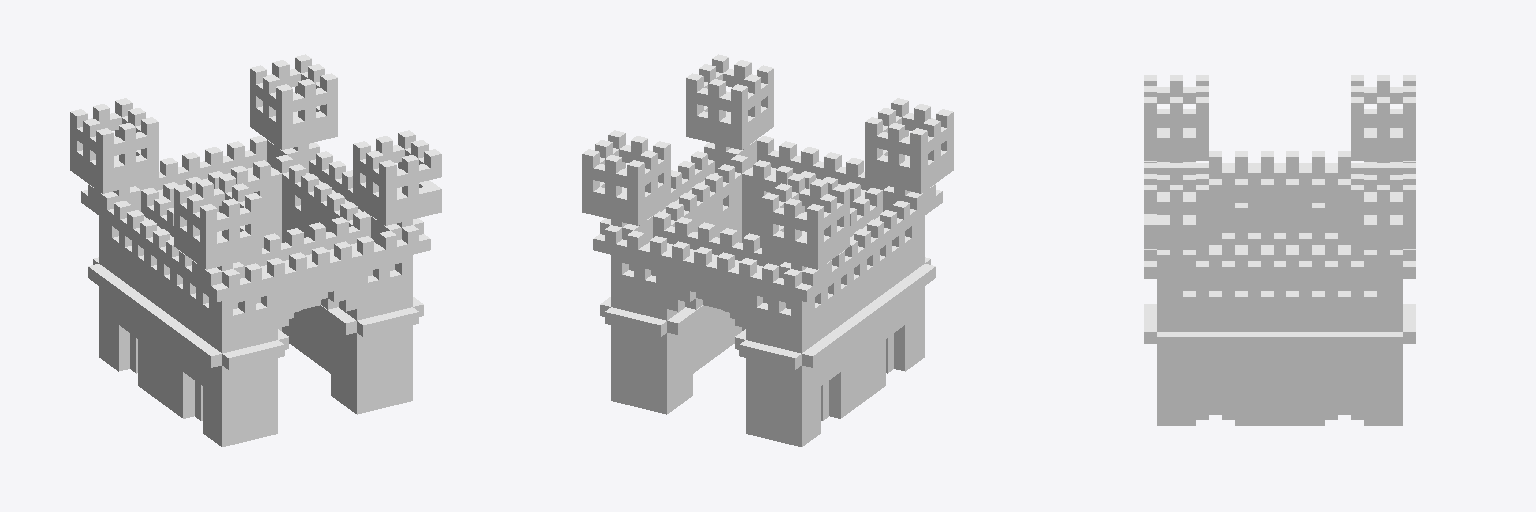
File: PodderCastle.obj
3 views of the same model, side by side, from view 1: azimuth 30°, elevation 25°; view 2: azimuth 150°, elevation 25°; view 3: azimuth 270°, elevation 25° (orthographic).
Parts seen in each view (by area): view 1: object 1; view 2: object 1; view 3: object 1.
Part boxes in pixels (bbox=[...]): object 1: bbox=[70, 54, 441, 446]; object 1: bbox=[582, 54, 953, 446]; object 1: bbox=[1144, 75, 1415, 425].
Bounding box in the file's own units: 2.1 × 2.1 × 2.1.